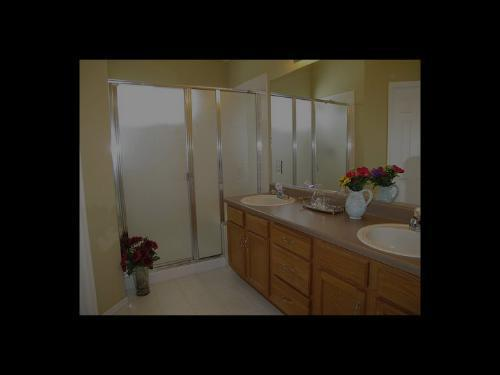Ducha: (98, 73, 249, 275)
Lavamanos: (349, 204, 420, 260), (238, 180, 297, 211)
